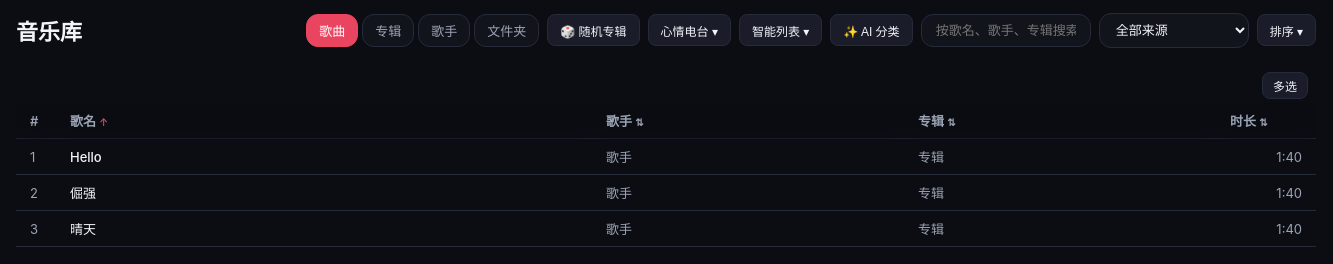
LibraryPage 音乐库 › 文件夹视图按目录分组显示子目录（根层显示盘符）
Click the button "文件夹" at (507, 30), box [474, 14, 539, 46]
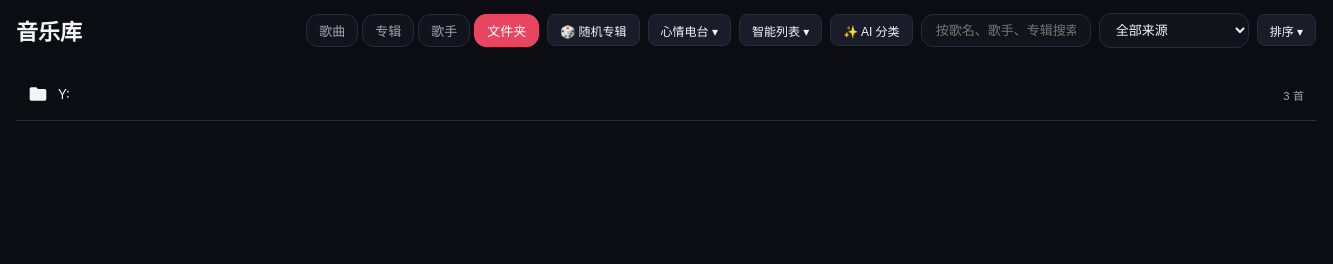
Now the text "Y:" is shown
Note: 点击进入后显示下一层 audio
Click the text "Y:" at (64, 94), box [58, 86, 70, 102]
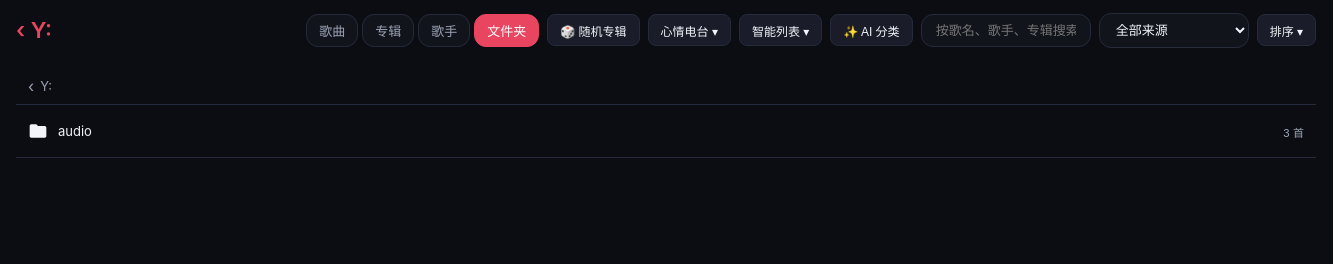
Now the text "audio" is shown, box [58, 123, 92, 139]
